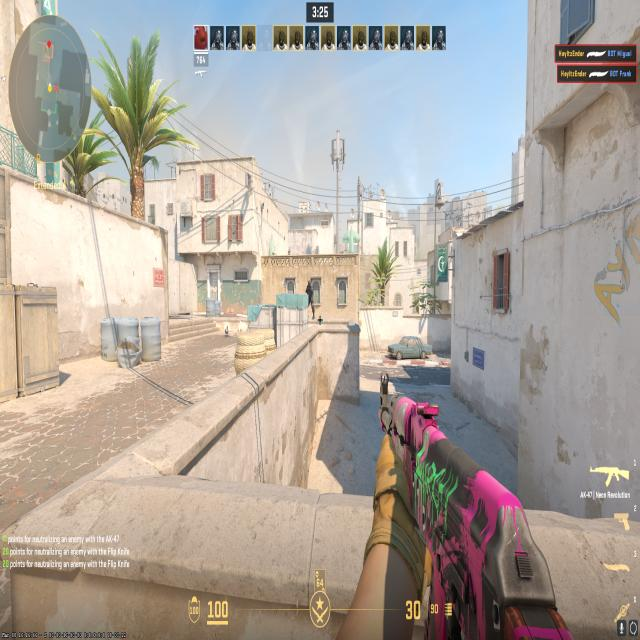ct: (303, 277, 317, 319)
